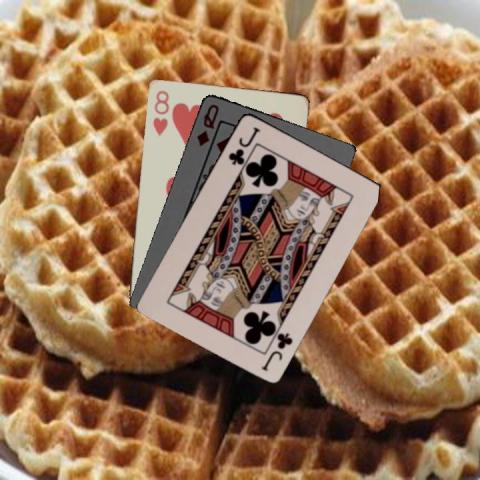8h: (149, 86, 170, 136)
Jc: (257, 329, 294, 373), (225, 123, 261, 166)
Qd: (193, 101, 221, 154)
